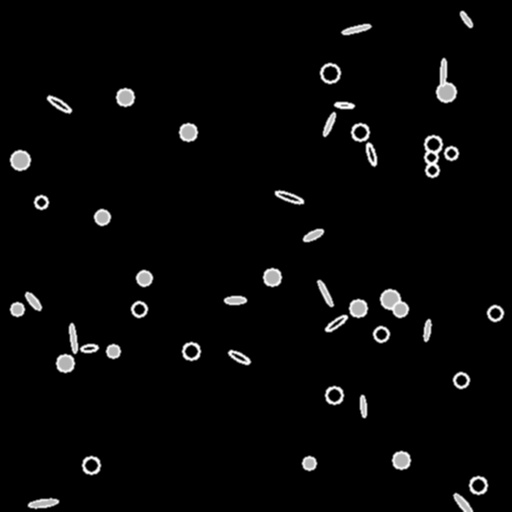pseudomonas: (46, 94, 72, 114), (316, 279, 334, 307), (324, 313, 348, 333), (274, 189, 304, 205), (452, 492, 474, 512), (24, 291, 42, 311), (228, 349, 250, 365), (302, 227, 324, 243), (342, 23, 370, 35), (322, 112, 336, 136), (28, 498, 58, 508), (458, 10, 474, 28), (365, 143, 377, 165), (69, 323, 77, 353), (224, 296, 246, 304), (440, 58, 446, 86), (423, 320, 431, 340), (80, 344, 98, 352), (360, 396, 366, 416), (334, 102, 354, 108)
synechocystis: (437, 83, 455, 101), (321, 64, 339, 82), (11, 151, 29, 169), (381, 290, 399, 308), (264, 269, 280, 285), (83, 457, 99, 473), (326, 387, 342, 403), (183, 343, 199, 359), (393, 452, 409, 468), (117, 89, 133, 105), (180, 124, 196, 140), (350, 300, 366, 316), (470, 477, 486, 493), (352, 124, 368, 140), (425, 136, 441, 152), (57, 355, 73, 371), (374, 327, 388, 341), (488, 306, 502, 320), (137, 271, 151, 285), (454, 373, 468, 387), (95, 210, 109, 224), (132, 302, 146, 316), (393, 302, 407, 316), (426, 164, 438, 176), (445, 147, 457, 159), (303, 457, 315, 469), (11, 303, 23, 315), (35, 196, 47, 208), (425, 151, 437, 163), (107, 345, 119, 357)
